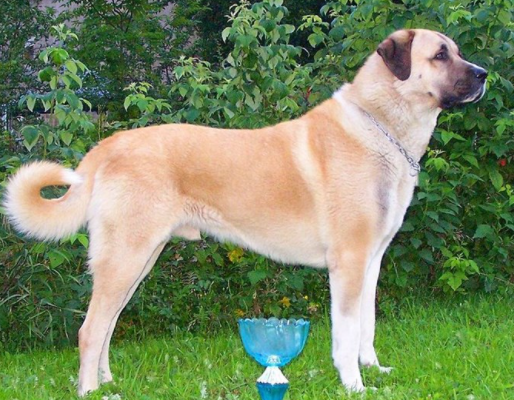dog: (11, 29, 491, 391)
